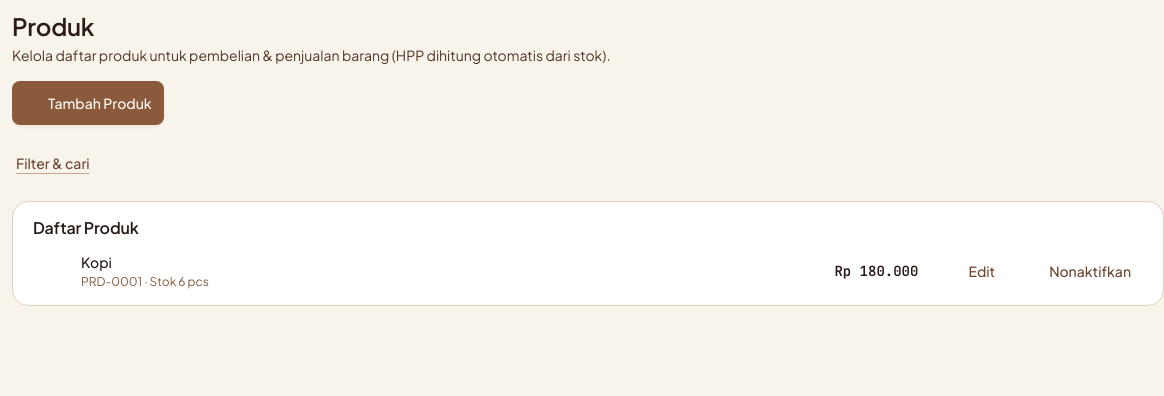
Scenario: ProductsPage expandable rows › menampilkan pesan kosong bila produk belum ada mutasi
Expected: the text "Kopi" is shown, [81, 253, 112, 271]
Click the button with aria-label "riwayat mutasi kopi" at (96, 262), box [33, 249, 918, 293]
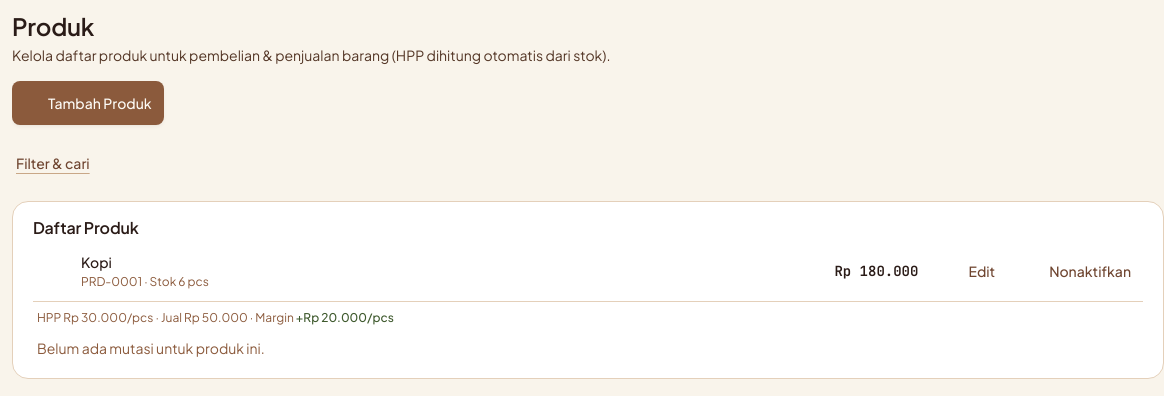
Result: the text "Belum ada mutasi untuk produk ini." is shown at [37, 339, 265, 357]
